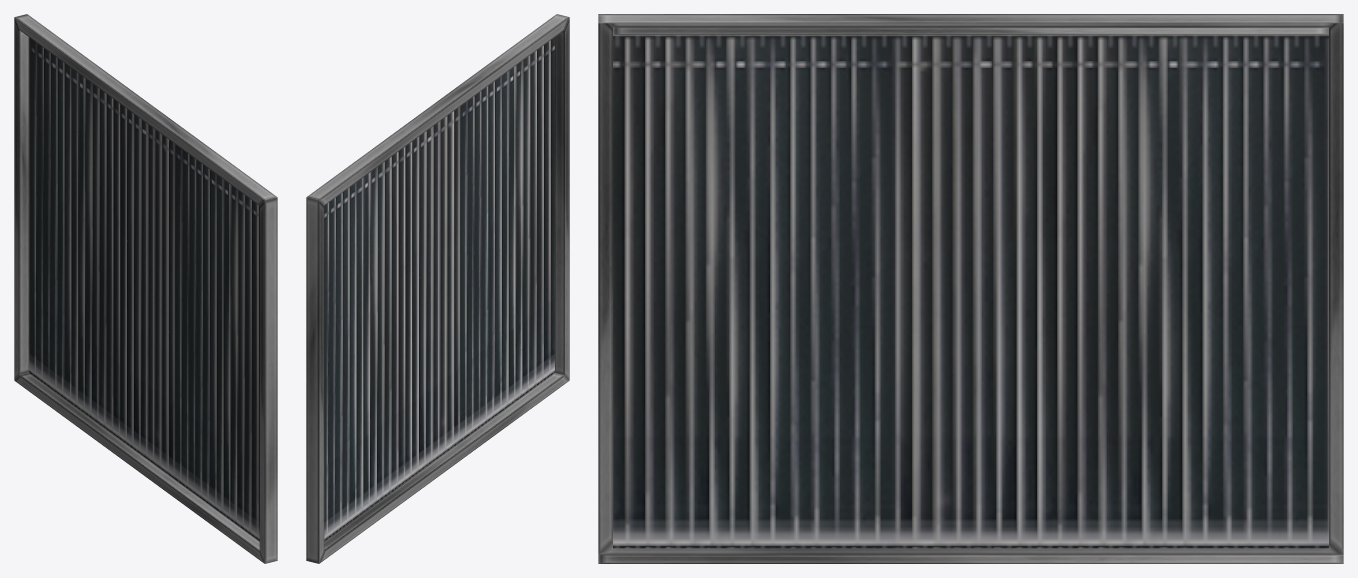
File: SM_SYD_Blinds_Standard.fbx
3 renders of one model, left to right at view 1: azimuth 30°, elevation 25°; view 2: azimuth 150°, elevation 25°; view 3: azimuth 270°, elevation 25°, orthographic. The views are drawn at different scales.
Parts seen in each view (by area): view 1: SM_SYD_Blinds_Standard; view 2: SM_SYD_Blinds_Standard; view 3: SM_SYD_Blinds_Standard.
Boxes of the visible parts, x1,y1,x2,y2 form: SM_SYD_Blinds_Standard: [14, 14, 277, 563]; SM_SYD_Blinds_Standard: [306, 14, 569, 563]; SM_SYD_Blinds_Standard: [598, 14, 1343, 563].
Bounding box in the file's own units: 15 × 400 × 500.
